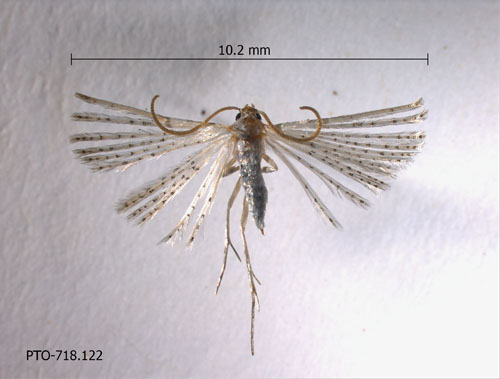Alucitidae: (71, 88, 432, 357)
moth: (69, 86, 430, 355)
